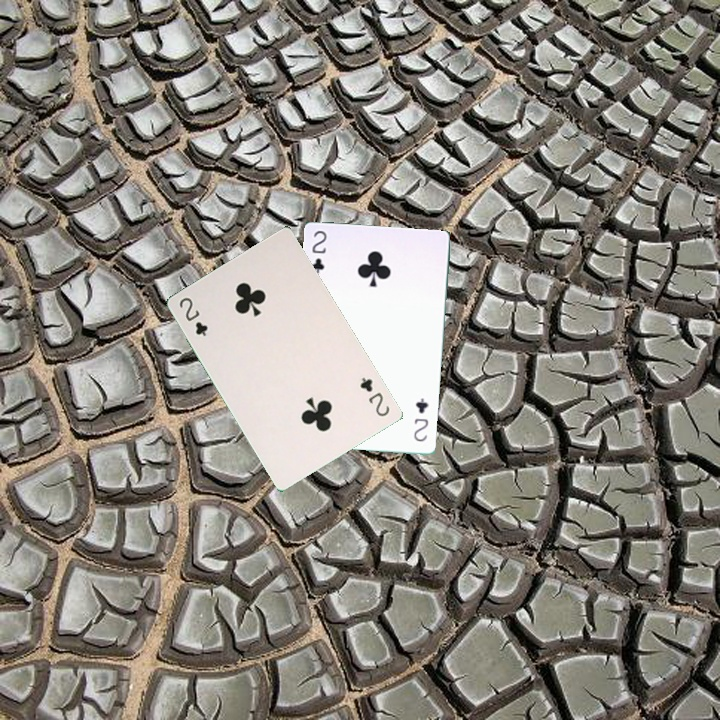2c: (356, 373, 392, 419), (175, 293, 210, 339), (308, 226, 329, 277), (410, 394, 431, 444)
